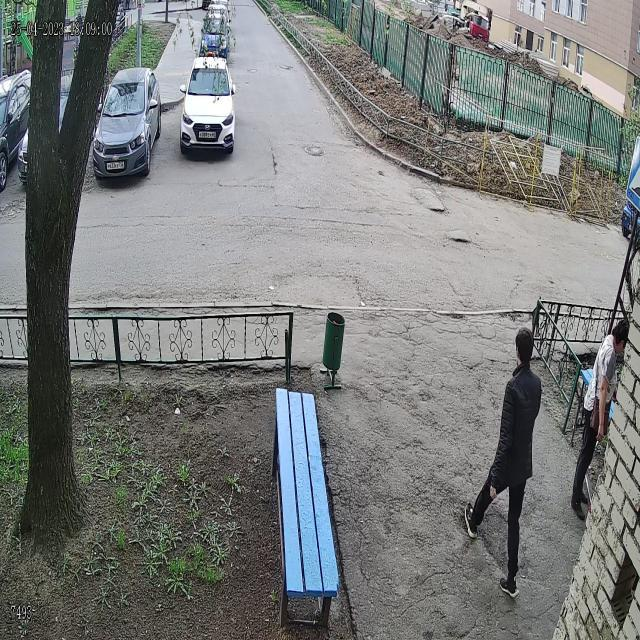person: (466, 329, 541, 596), (570, 320, 630, 522)
